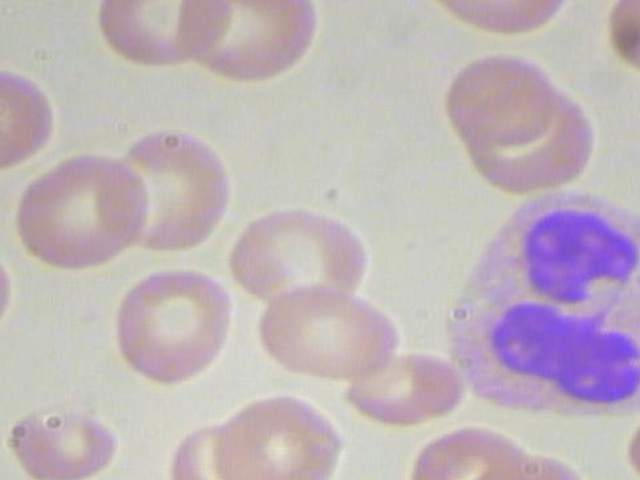RBC: (5, 150, 151, 277), (99, 126, 245, 253), (222, 201, 374, 312), (249, 275, 401, 386), (103, 264, 236, 388), (172, 0, 324, 86), (437, 48, 558, 146), (93, 0, 236, 78), (336, 349, 471, 428), (4, 391, 116, 480), (603, 0, 640, 84), (0, 227, 15, 344), (0, 77, 15, 175)
WBC: (402, 179, 640, 431)
